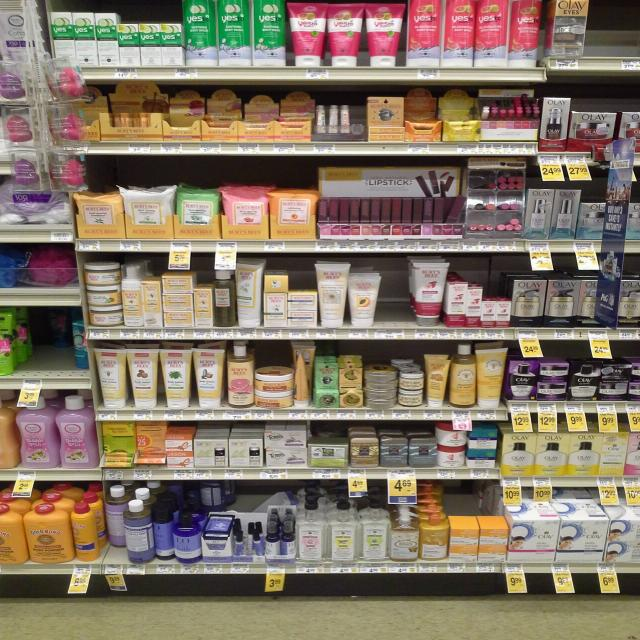empty: (377, 258, 423, 323), (590, 1, 640, 60)
